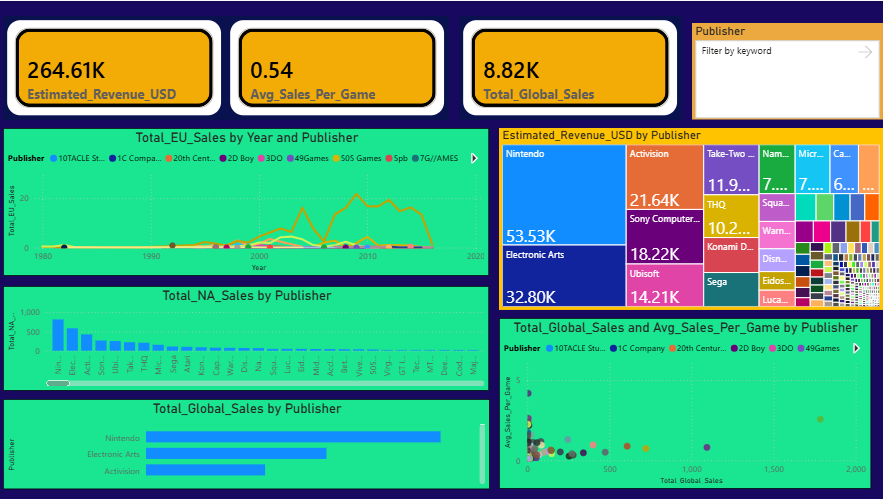

The dashboard page shown, as its layout file describes it:
{"tool":"powerbi","page":{"name":"Publisher Analysis","canvas":[1280,720],"ordinal":4},"visuals":[{"type":"barChart","fields":{"Y":["Fact_Sales.Total_Global_Sales"],"Category":["Dim_Publisher.Publisher"]},"box":[13.4,572.8,700.5,147.8],"z":0},{"type":"columnChart","fields":{"Category":["Dim_Publisher.Publisher"],"Y":["Fact_Sales.Total_NA_Sales"]},"box":[13.4,409.9,700.5,151.2],"z":1000},{"type":"scatterChart","fields":{"X":["Fact_Sales.Total_Global_Sales"],"Y":["Fact_Sales.Avg_Sales_Per_Game"],"Series":["Dim_Publisher.Publisher"]},"box":[727.3,456.9,535.9,263.7],"z":2000},{"type":"lineChart","fields":{"Category":["Dim_Calendar.Year"],"Series":["Dim_Publisher.Publisher"],"Y":["Fact_Sales.Total_EU_Sales"]},"box":[13.4,183.1,700.5,213.3],"z":3000},{"type":"treemap","fields":{"Group":["Fact_Sales.Publisher"],"Values":["Fact_Sales.Estimated_Revenue_USD"]},"box":[727.3,183.1,552.7,262],"z":4000},{"type":"cardVisual","fields":{"Data":["Fact_Sales.Estimated_Revenue_USD"]},"box":[13.4,21.8,320.8,149.5],"z":5000},{"type":"cardVisual","fields":{"Data":["Fact_Sales.Avg_Sales_Per_Game"]},"box":[334.3,21.8,320.8,149.5],"z":6000},{"type":"cardVisual","fields":{"Data":["Fact_Sales.Total_Global_Sales"]},"box":[670.2,21.8,320.8,149.5],"z":7000},{"type":"textSlicer","fields":{"Values":["Dim_Publisher.Publisher"]},"box":[1004.5,31.9,275.5,139.4],"z":8000}]}

Visuals, with their boxes in screenshot pixels (x1, y1, x2, y2), scaled from the page's 1280x720 canvas onto the 883x499 screenshot:
barChart - Fact_Sales.Total_Global_Sales x Dim_Publisher.Publisher: 9/397/492/498
columnChart - Dim_Publisher.Publisher x Fact_Sales.Total_NA_Sales: 9/284/492/389
scatterChart - Fact_Sales.Total_Global_Sales x Fact_Sales.Avg_Sales_Per_Game: 502/317/871/498
lineChart - Dim_Calendar.Year x Dim_Publisher.Publisher: 9/127/492/275
treemap - Fact_Sales.Publisher x Fact_Sales.Estimated_Revenue_USD: 502/127/882/308
cardVisual - Fact_Sales.Estimated_Revenue_USD: 9/15/231/119
cardVisual - Fact_Sales.Avg_Sales_Per_Game: 231/15/452/119
cardVisual - Fact_Sales.Total_Global_Sales: 462/15/684/119
textSlicer - Dim_Publisher.Publisher: 693/22/882/119
